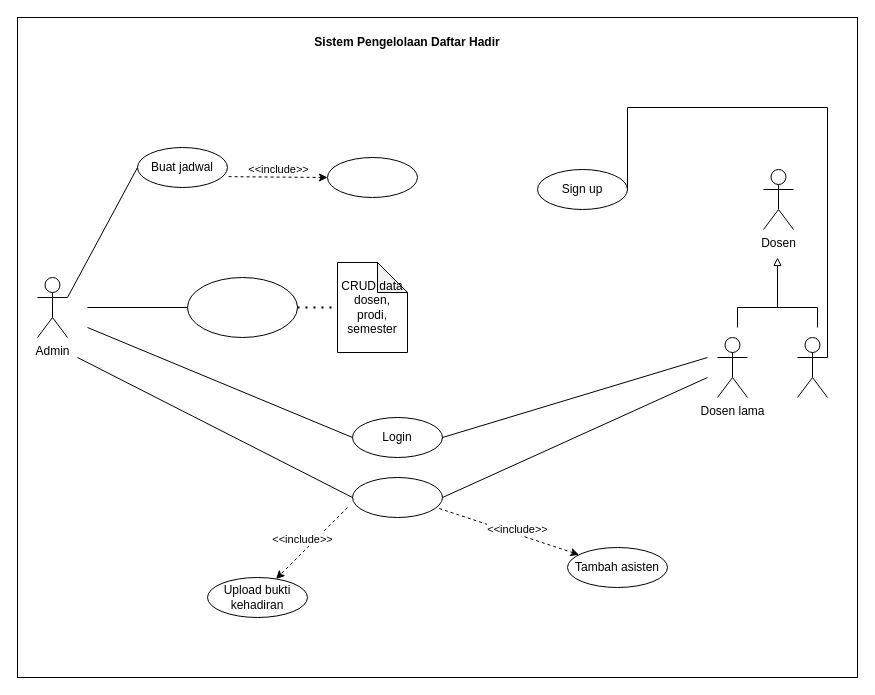
This 875x695 diagram has some shape labels left out. The centre of each missing label's shape, as x and y in pixels:
Dosen baru: the point at 812,367
Enroll Dosen: the point at 372,177
Kelola daftar hadir: the point at 397,497
Kelola Data: the point at 242,307
